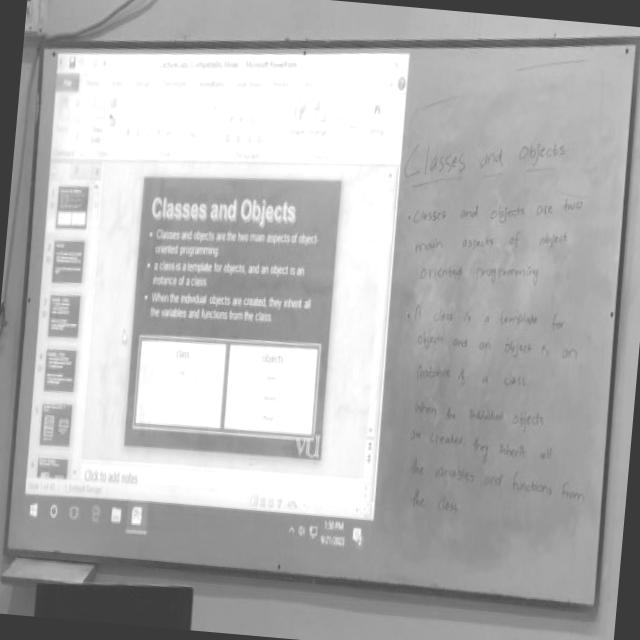Slide: (22, 48, 409, 549)
White-board: (6, 42, 639, 604)
